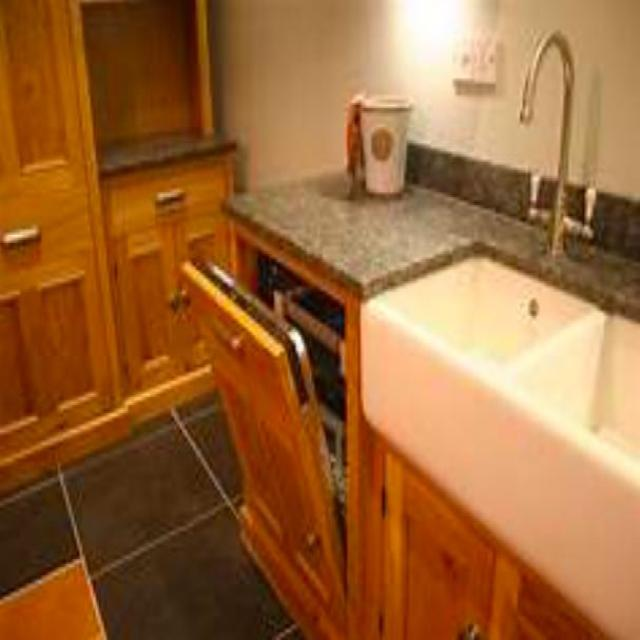dishwasher: (179, 229, 344, 610)
